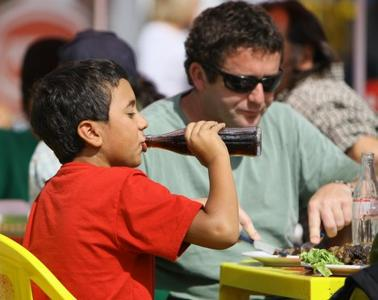person: (23, 60, 241, 299)
